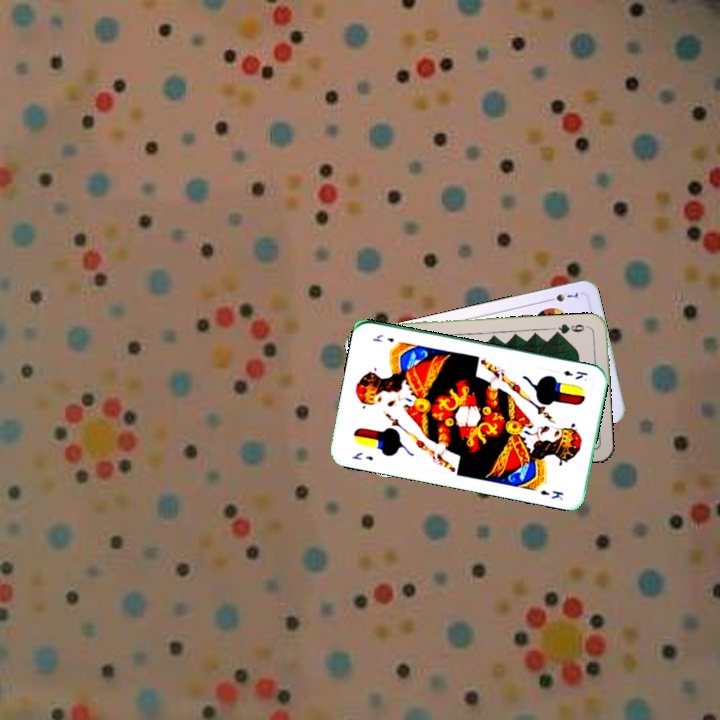EK: (559, 366, 589, 382), (348, 448, 376, 463)
G9: (551, 320, 592, 338)
S7: (543, 289, 583, 304)
